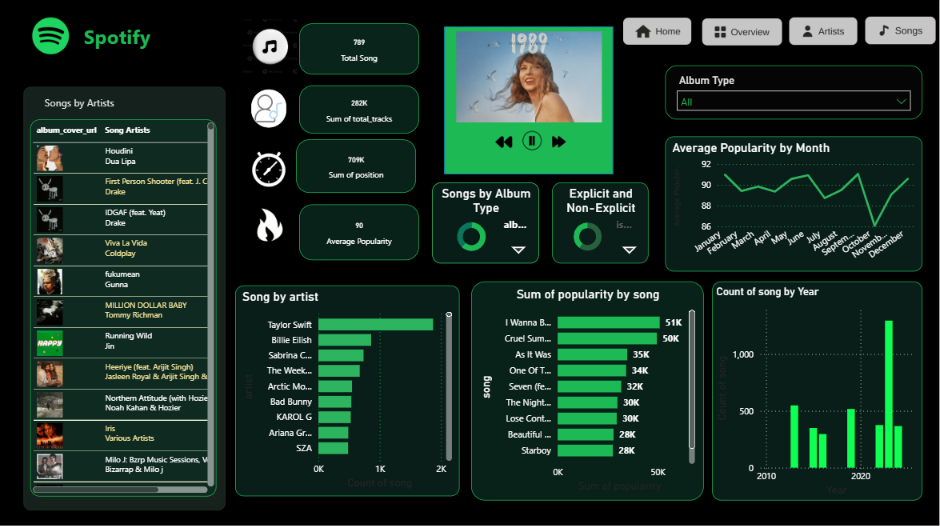

What the dashboard file says about the page in this screenshot:
{"tool":"powerbi","page":{"name":"Overview","canvas":[1280,720],"ordinal":1},"visuals":[{"type":"textbox","box":[109.8,28.8,149.6,67.2],"z":0},{"type":"card","fields":{"Values":["spotify-top-50-world.Total Song"]},"box":[408.8,33.6,163.3,69.5],"z":0,"group":"g1"},{"type":"image","box":[26.1,13.7,83.7,74.1],"z":1000},{"type":"card","fields":{"Values":["Sum(spotify-top-50-world.total_tracks)"]},"box":[408.8,118.6,163.3,65.7],"z":1000,"group":"g1"},{"type":"shape","box":[26.1,112.5,289.5,591.4],"z":2000},{"type":"card","fields":{"Values":["spotify-top-50-world.Average Popularity"]},"box":[408.8,280.8,163.3,76.3],"z":2000,"group":"g1"},{"type":"tableEx","fields":{"Values":["spotify-top-50-world.album_cover_url","spotify-top-50-world.Song Artists"]},"box":[42.5,164.7,253.9,513.2],"z":3000},{"type":"card","fields":{"Values":["Sum(spotify-top-50-world.position)"]},"box":[404.7,192.3,163.3,72.7],"z":3000,"group":"g1"},{"type":"image","box":[321.1,28.8,93.2,74.3],"z":4000,"group":"g1"},{"type":"donutChart","title":"Songs by Album Type","fields":{"Category":["spotify-top-50-world.album_type"],"Y":["CountNonNull(spotify-top-50-world.song)"]},"box":[590,250,145.7,110],"z":4000},{"type":"image","box":[342.3,124.4,48,52.1],"z":5000,"group":"g1"},{"type":"donutChart","title":"Explicit and Non-Explicit","fields":{"Category":["spotify-top-50-world.is_explicit"],"Y":["CountNonNull(spotify-top-50-world.song)"]},"box":[752.9,250,131.4,110],"z":5000},{"type":"image","box":[342.3,203.5,48,59.9],"z":6000,"group":"g1"},{"type":"clusteredColumnChart","fields":{"Category":["spotify-top-50-world.release_date.Variation.Date Hierarchy.Year"],"Y":["CountNonNull(spotify-top-50-world.song)"]},"box":[971.7,385,286.7,298.3],"z":6000},{"type":"image","box":[338.6,273.1,59.1,71.4],"z":7000,"group":"g1"},{"type":"clusteredBarChart","fields":{"Category":["spotify-top-50-world.song"],"Y":["Sum(spotify-top-50-world.popularity)"]},"box":[643.3,385,316.7,298.3],"z":7000},{"type":"lineChart","fields":{"Category":["spotify-top-50-world.release_date.Variation.Date Hierarchy.Month"],"Y":["spotify-top-50-world.Average Popularity"]},"box":[907.1,188,350,183.9],"z":8000},{"type":"clusteredBarChart","title":"Song by artist","fields":{"Category":["spotify-top-50-world.artist"],"Y":["CountNonNull(spotify-top-50-world.song)"]},"box":[321.4,391.4,305.7,287.1],"z":9000},{"type":"shape","box":[606.1,38.1,230.2,201.6],"z":10000},{"type":"image","box":[850,20,92.9,51.4],"z":11000,"group":"g2"},{"type":"group","id":"g1","title":"Group 1","box":[321.1,28.8,251,328.3],"z":11000},{"type":"image","box":[957.1,14.3,108.6,64.3],"z":12000,"group":"g2"},{"type":"image","box":[612.9,44.9,217.9,123.9],"z":12000},{"type":"image","box":[1075.7,22.9,92.9,45.7],"z":13000,"group":"g2"},{"type":"image","box":[752.9,185.7,18.6,20],"z":13000},{"type":"image","box":[1180,14.3,95.7,60],"z":14000,"group":"g2"},{"type":"image","box":[698.6,178.6,54.3,30],"z":14000},{"type":"image","box":[675.7,181.4,22.9,28.6],"z":15000},{"type":"group","id":"g2","title":"Group 1","box":[850,14.3,425.7,64.3],"z":16000},{"type":"slicer","fields":{"Values":["spotify-top-50-world.album_type"]},"box":[907.1,91.3,350,73.5],"z":17000},{"type":"textbox","box":[57.6,127.6,127.6,37],"z":17001}]}

Visuals, with their boxes in screenshot pixels (x1, y1, x2, y2), scaled from the page's 1280x720 canvas onto the 940x526 screenshot:
textbox: 81:21:190:70
card - spotify-top-50-world.Total Song: 300:25:420:75
image: 19:10:81:64
card - Sum(spotify-top-50-world.total_tracks): 300:87:420:135
shape: 19:82:232:514
card - spotify-top-50-world.Average Popularity: 300:205:420:261
tableEx - spotify-top-50-world.album_cover_url x spotify-top-50-world.Song Artists: 31:120:218:495
card - Sum(spotify-top-50-world.position): 297:140:417:194
image: 236:21:304:75
"Songs by Album Type" donutChart: 433:183:540:263
image: 251:91:287:129
"Explicit and Non-Explicit" donutChart: 553:183:649:263
image: 251:149:287:192
clusteredColumnChart - spotify-top-50-world.release_date.Variation.Date Hierarchy.Year x CountNonNull(spotify-top-50-world.song): 714:281:924:499
image: 249:200:292:252
clusteredBarChart - spotify-top-50-world.song x Sum(spotify-top-50-world.popularity): 472:281:705:499
lineChart - spotify-top-50-world.release_date.Variation.Date Hierarchy.Month x spotify-top-50-world.Average Popularity: 666:137:923:272
"Song by artist" clusteredBarChart: 236:286:461:496
shape: 445:28:614:175
image: 624:15:692:52
"Group 1" group: 236:21:420:261
image: 703:10:783:57
image: 450:33:610:123
image: 790:17:858:50
image: 553:136:567:150
image: 867:10:937:54
image: 513:130:553:152
image: 496:133:513:153
"Group 1" group: 624:10:937:57
slicer - spotify-top-50-world.album_type: 666:67:923:120
textbox: 42:93:136:120
